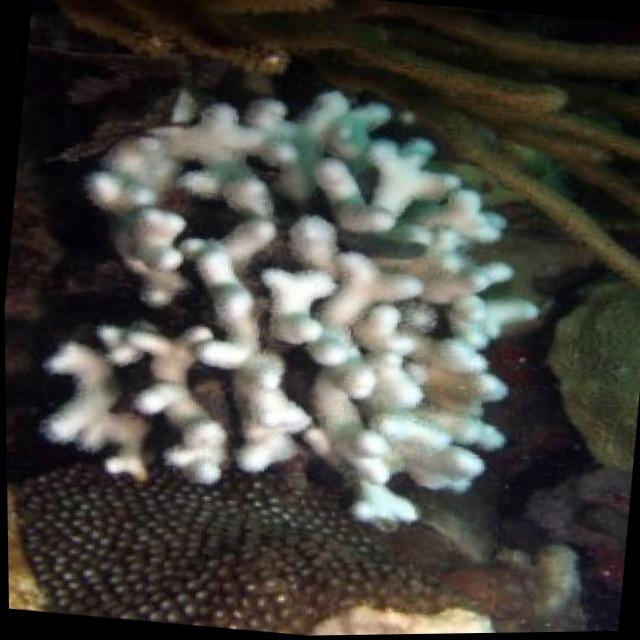Bleached Coral: (18, 56, 579, 544)
